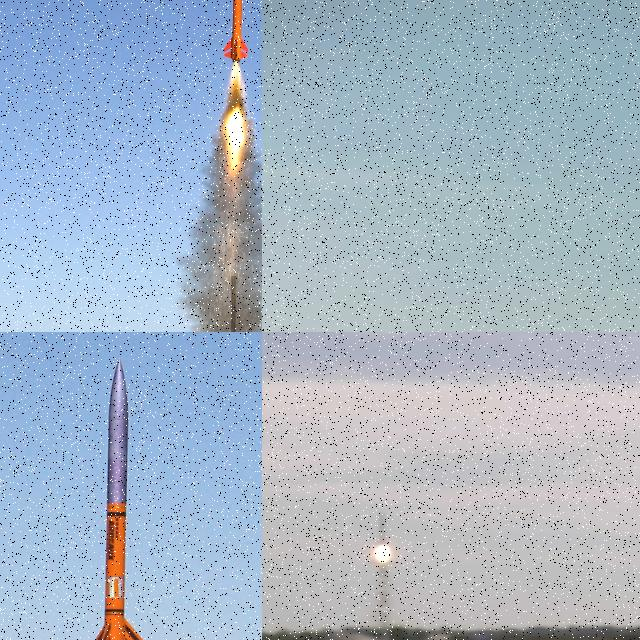Rocket: (87, 357, 151, 640), (222, 0, 248, 61), (378, 513, 388, 546)
